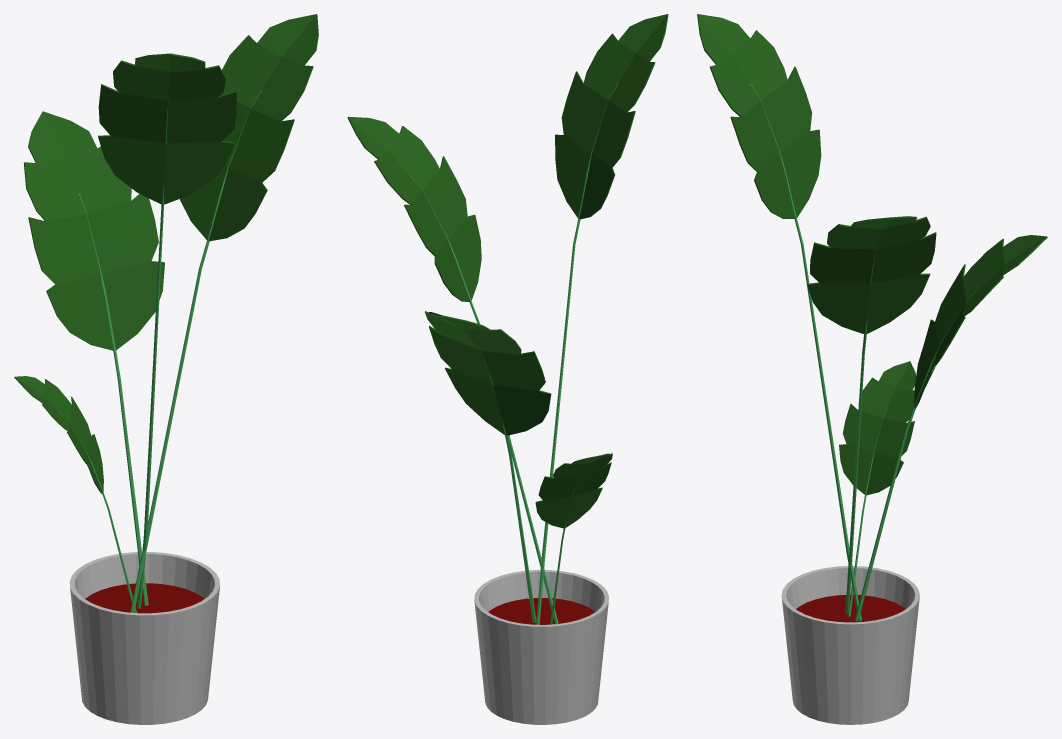
Rendered from StorPlante_1.fbx.
The picture shows the model from 3 angles, left to right: view 1: azimuth 30°, elevation 25°; view 2: azimuth 150°, elevation 25°; view 3: azimuth 270°, elevation 25°; orthographic projection. The views are drawn at different scales.
Parts seen in each view (by area): view 1: StorPlante_1, StorPotte_1; view 2: StorPlante_1, StorPotte_1; view 3: StorPlante_1, StorPotte_1.
Part boxes in pixels (x1,y1,x2,y2): StorPlante_1: (14, 14, 318, 612); StorPotte_1: (69, 552, 219, 724); StorPlante_1: (347, 14, 668, 624); StorPotte_1: (474, 570, 609, 724); StorPlante_1: (697, 14, 1047, 621); StorPotte_1: (781, 566, 919, 724).
Size of the model in its own units: 115 by 270 by 130.
